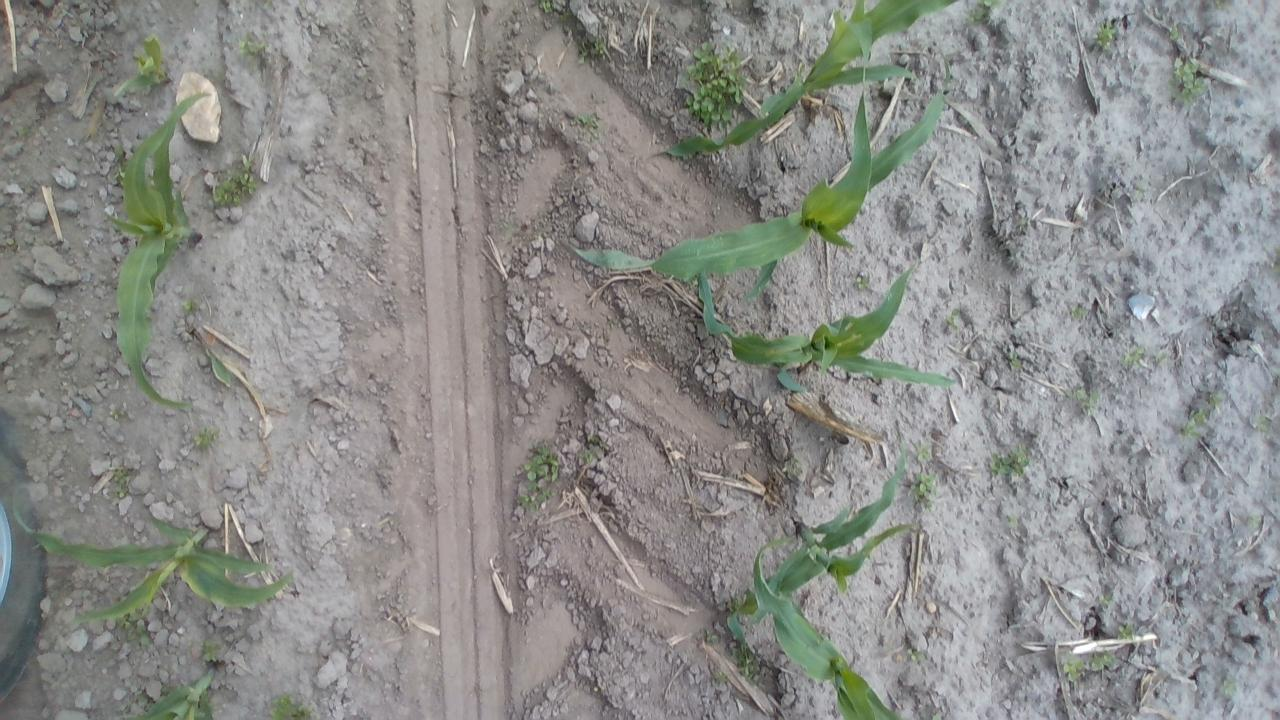Maize: (558, 83, 948, 295), (653, 0, 963, 162), (681, 255, 967, 393), (720, 434, 920, 623), (6, 502, 294, 630), (110, 86, 214, 409), (744, 536, 914, 720), (133, 660, 225, 718), (112, 31, 176, 99), (186, 321, 239, 393)
Weeds: (681, 38, 747, 130), (516, 439, 562, 514), (120, 32, 169, 102), (210, 154, 262, 209), (1169, 54, 1208, 109), (986, 443, 1030, 478), (265, 691, 319, 718), (731, 650, 768, 688), (1181, 398, 1214, 439), (912, 470, 942, 510), (1069, 385, 1104, 418), (117, 613, 153, 645), (569, 109, 605, 137), (237, 32, 268, 64), (108, 462, 134, 500), (192, 425, 224, 455), (965, 1, 1004, 25), (782, 451, 808, 487), (578, 433, 605, 466), (112, 146, 133, 187), (1122, 343, 1148, 374), (1094, 19, 1119, 51), (580, 36, 610, 60), (197, 636, 220, 666), (496, 212, 520, 240), (1114, 620, 1144, 642), (1250, 410, 1274, 436), (537, 0, 566, 20), (1087, 651, 1115, 671), (1061, 658, 1083, 682), (178, 294, 200, 316), (1069, 302, 1090, 324), (1152, 349, 1173, 370), (945, 306, 961, 332), (700, 626, 720, 646), (1204, 390, 1225, 409), (1096, 592, 1118, 610), (1006, 348, 1022, 372), (709, 665, 729, 684), (852, 274, 873, 292), (917, 442, 934, 464), (16, 118, 33, 140), (1221, 676, 1238, 695), (906, 646, 924, 662), (1246, 512, 1262, 530), (1211, 0, 1232, 13), (1166, 25, 1182, 42), (108, 406, 126, 421), (1004, 513, 1019, 529), (1133, 182, 1146, 198), (5, 232, 16, 248), (262, 0, 272, 9)
